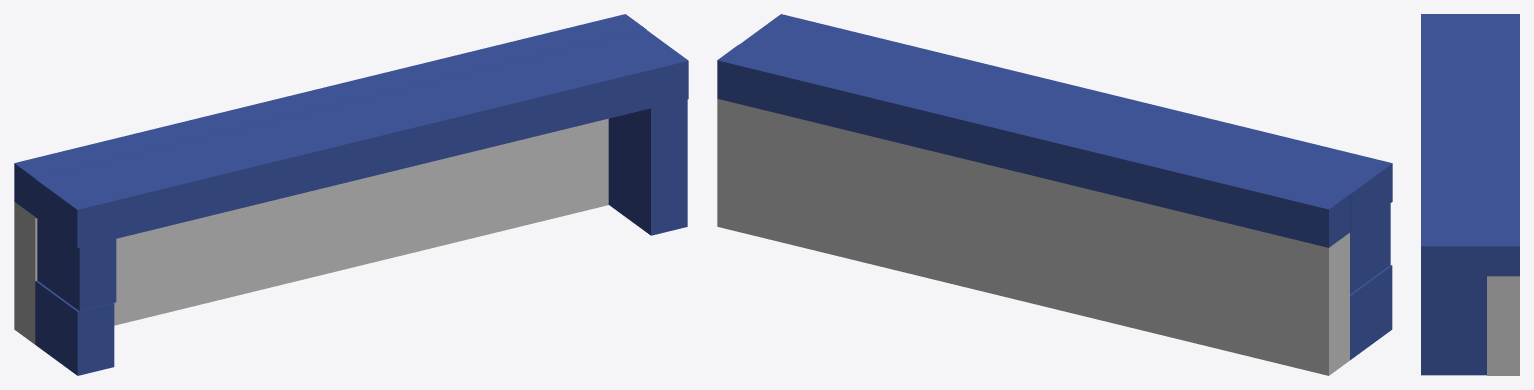
File: tinker.obj
3 renders of one model, left to right at view 1: azimuth 30°, elevation 25°; view 2: azimuth 150°, elevation 25°; view 3: azimuth 270°, elevation 25°, orthographic. The views are drawn at different scales.
Visible parts, largest first — view 1: obj_4, obj_0, obj_3, obj_2, obj_6, obj_1, obj_7, obj_5; view 2: obj_0, obj_2, obj_3, obj_4, obj_6, obj_7; view 3: obj_4, obj_3, obj_1, obj_5, obj_0, obj_2.
Part boxes in pixels (bbox=[...]): obj_4: bbox=[35, 29, 688, 248]; obj_0: bbox=[14, 141, 608, 344]; obj_3: bbox=[14, 14, 646, 216]; obj_2: bbox=[14, 118, 608, 280]; obj_6: bbox=[35, 280, 114, 375]; obj_1: bbox=[608, 141, 687, 235]; obj_7: bbox=[37, 219, 116, 311]; obj_5: bbox=[608, 99, 687, 171]; obj_0: bbox=[717, 163, 1349, 375]; obj_2: bbox=[717, 99, 1349, 311]; obj_3: bbox=[717, 45, 1349, 247]; obj_4: bbox=[739, 14, 1392, 232]; obj_6: bbox=[1350, 265, 1392, 360]; obj_7: bbox=[1350, 203, 1390, 293]; obj_4: bbox=[1421, 14, 1486, 276]; obj_3: bbox=[1487, 14, 1519, 276]; obj_1: bbox=[1421, 325, 1486, 375]; obj_5: bbox=[1421, 276, 1486, 325]; obj_0: bbox=[1487, 326, 1519, 375]; obj_2: bbox=[1487, 276, 1519, 325].
Size of the model in its own units: 200 by 52 by 36.
